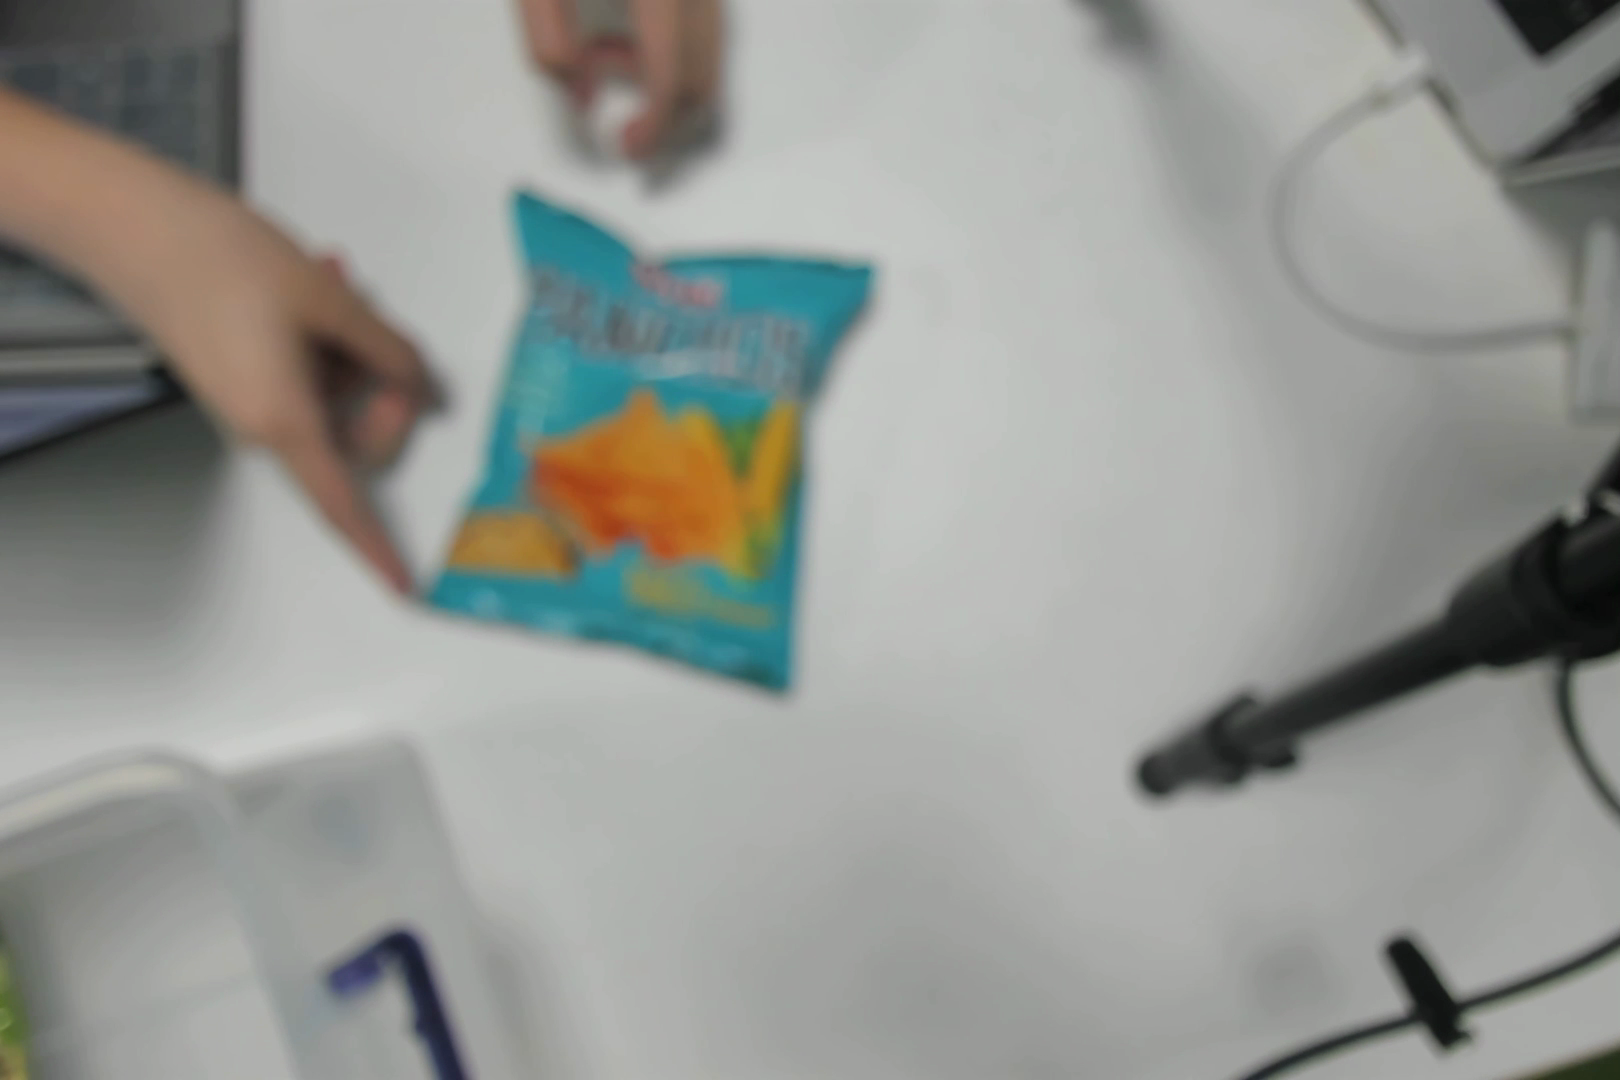PotatochipsKeropok_1-99g_NonHalal_NonHealthy: (506, 254, 800, 630)
